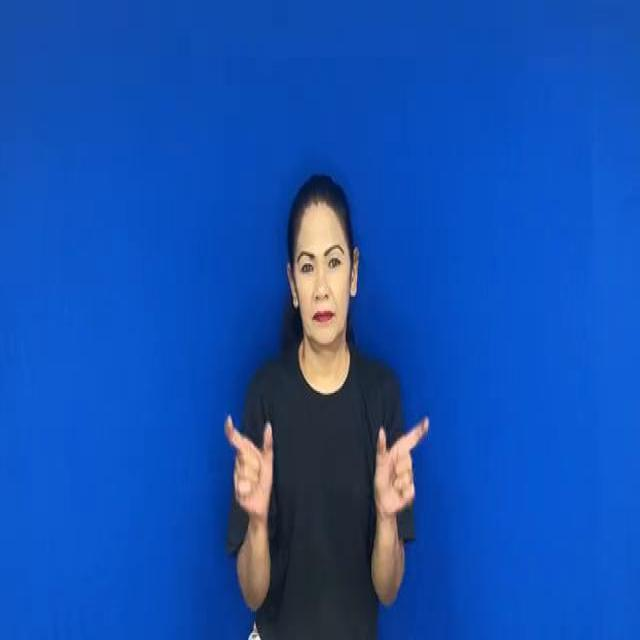crab: (212, 396, 288, 528), (369, 409, 437, 519)
